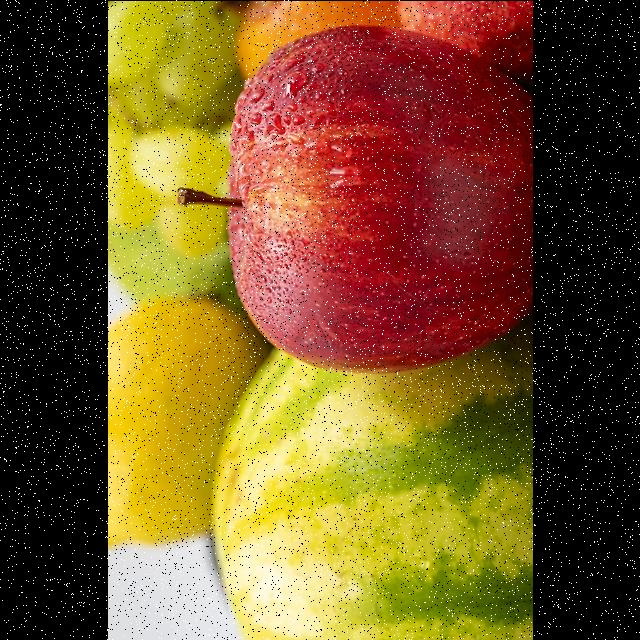Apel Segar: (210, 0, 532, 394)
